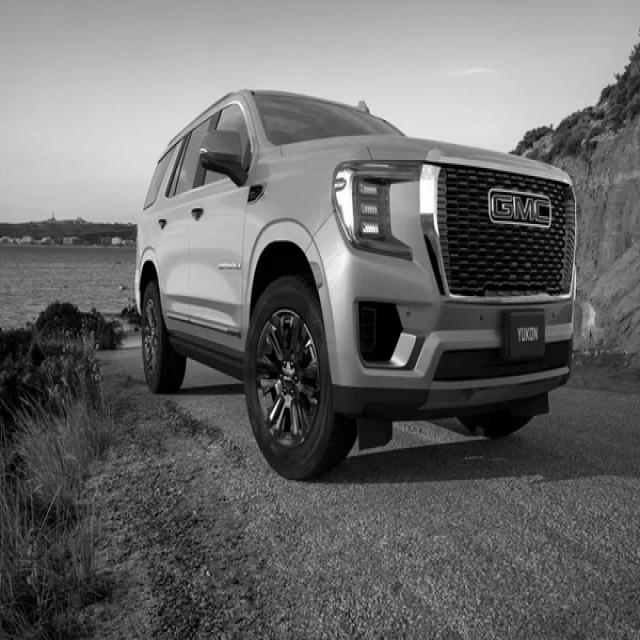Car: (136, 91, 577, 479)
